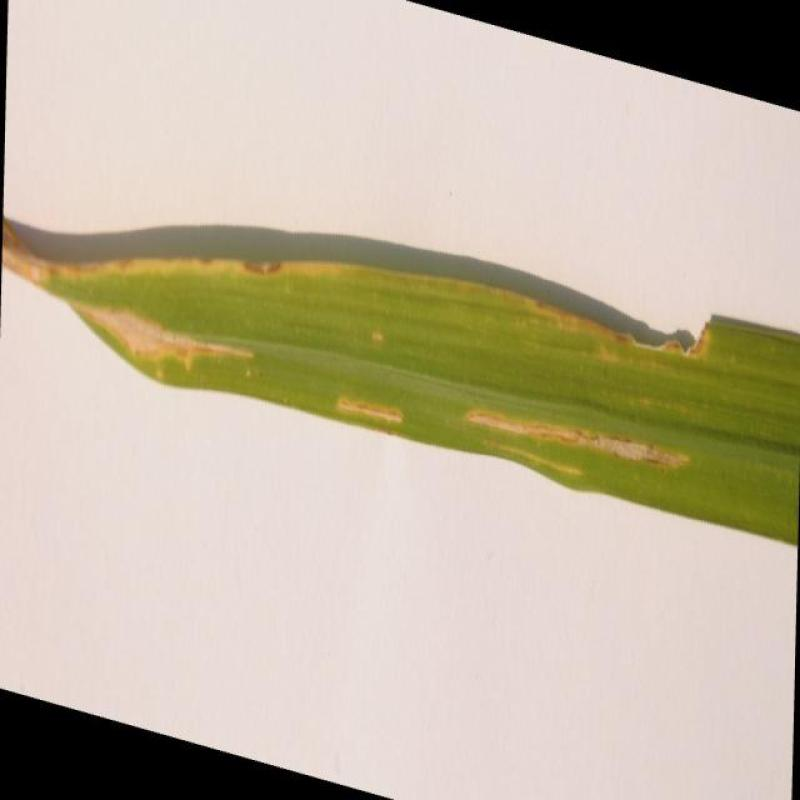Bacterial_Leaf_Blight: (2, 220, 256, 364), (468, 411, 692, 471), (337, 384, 405, 438)
